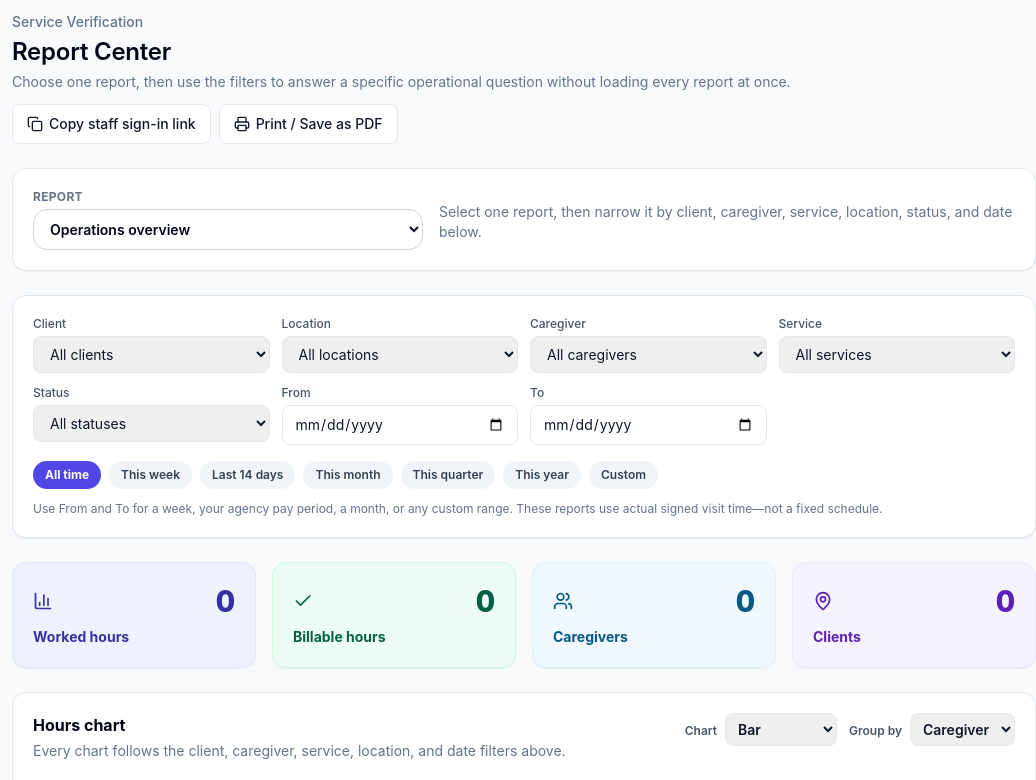
Test: ServiceVerificationReportsPage › copies one common staff link and explains assignment protection
Select "Staff access" in the dropdown labelled "Report": {"x": 228, "y": 230} [33,209,423,250]
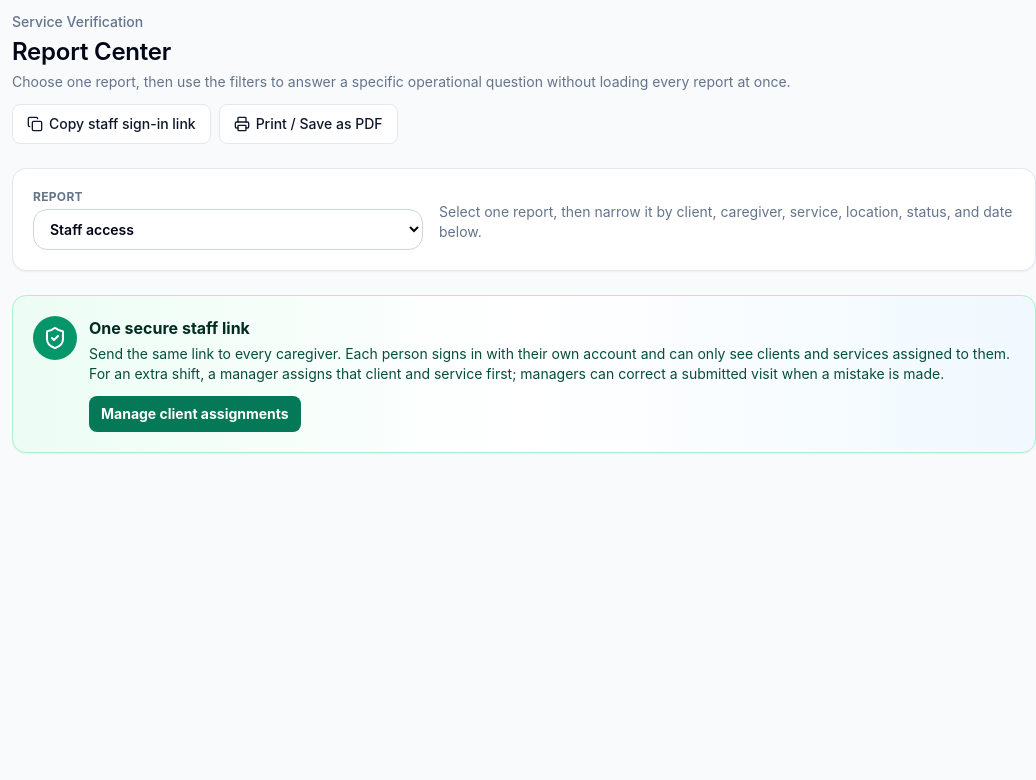
Click the button "Copy staff sign-in link": {"x": 111, "y": 124} [12,104,211,144]
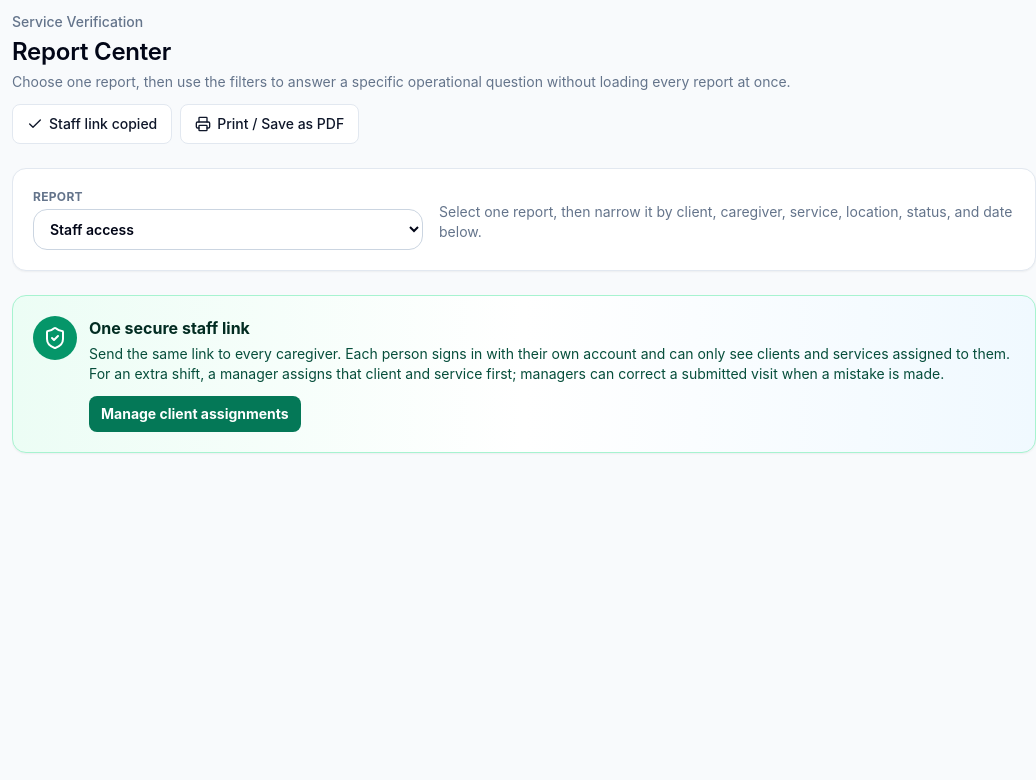
Now the text "can only see clients and services assigned to them" is shown, box [89,345,1010,382]
Now the button "Staff link copied" is shown, box [12,104,172,144]
